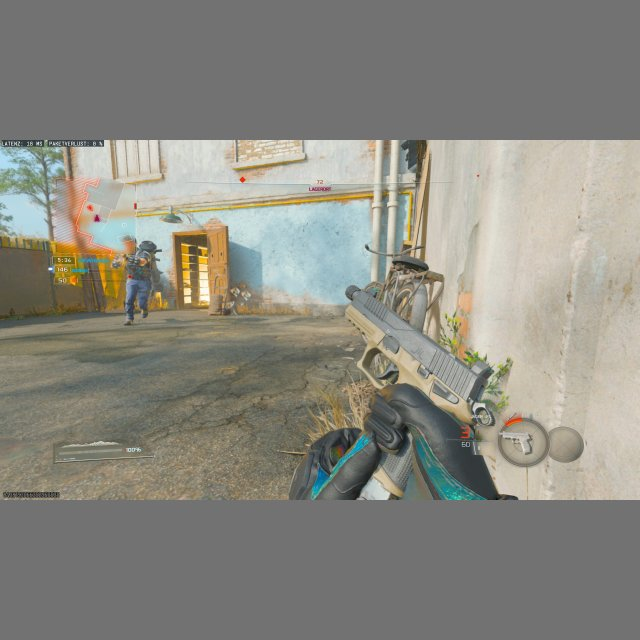head: (139, 239, 157, 255)
player: (113, 239, 161, 326)
